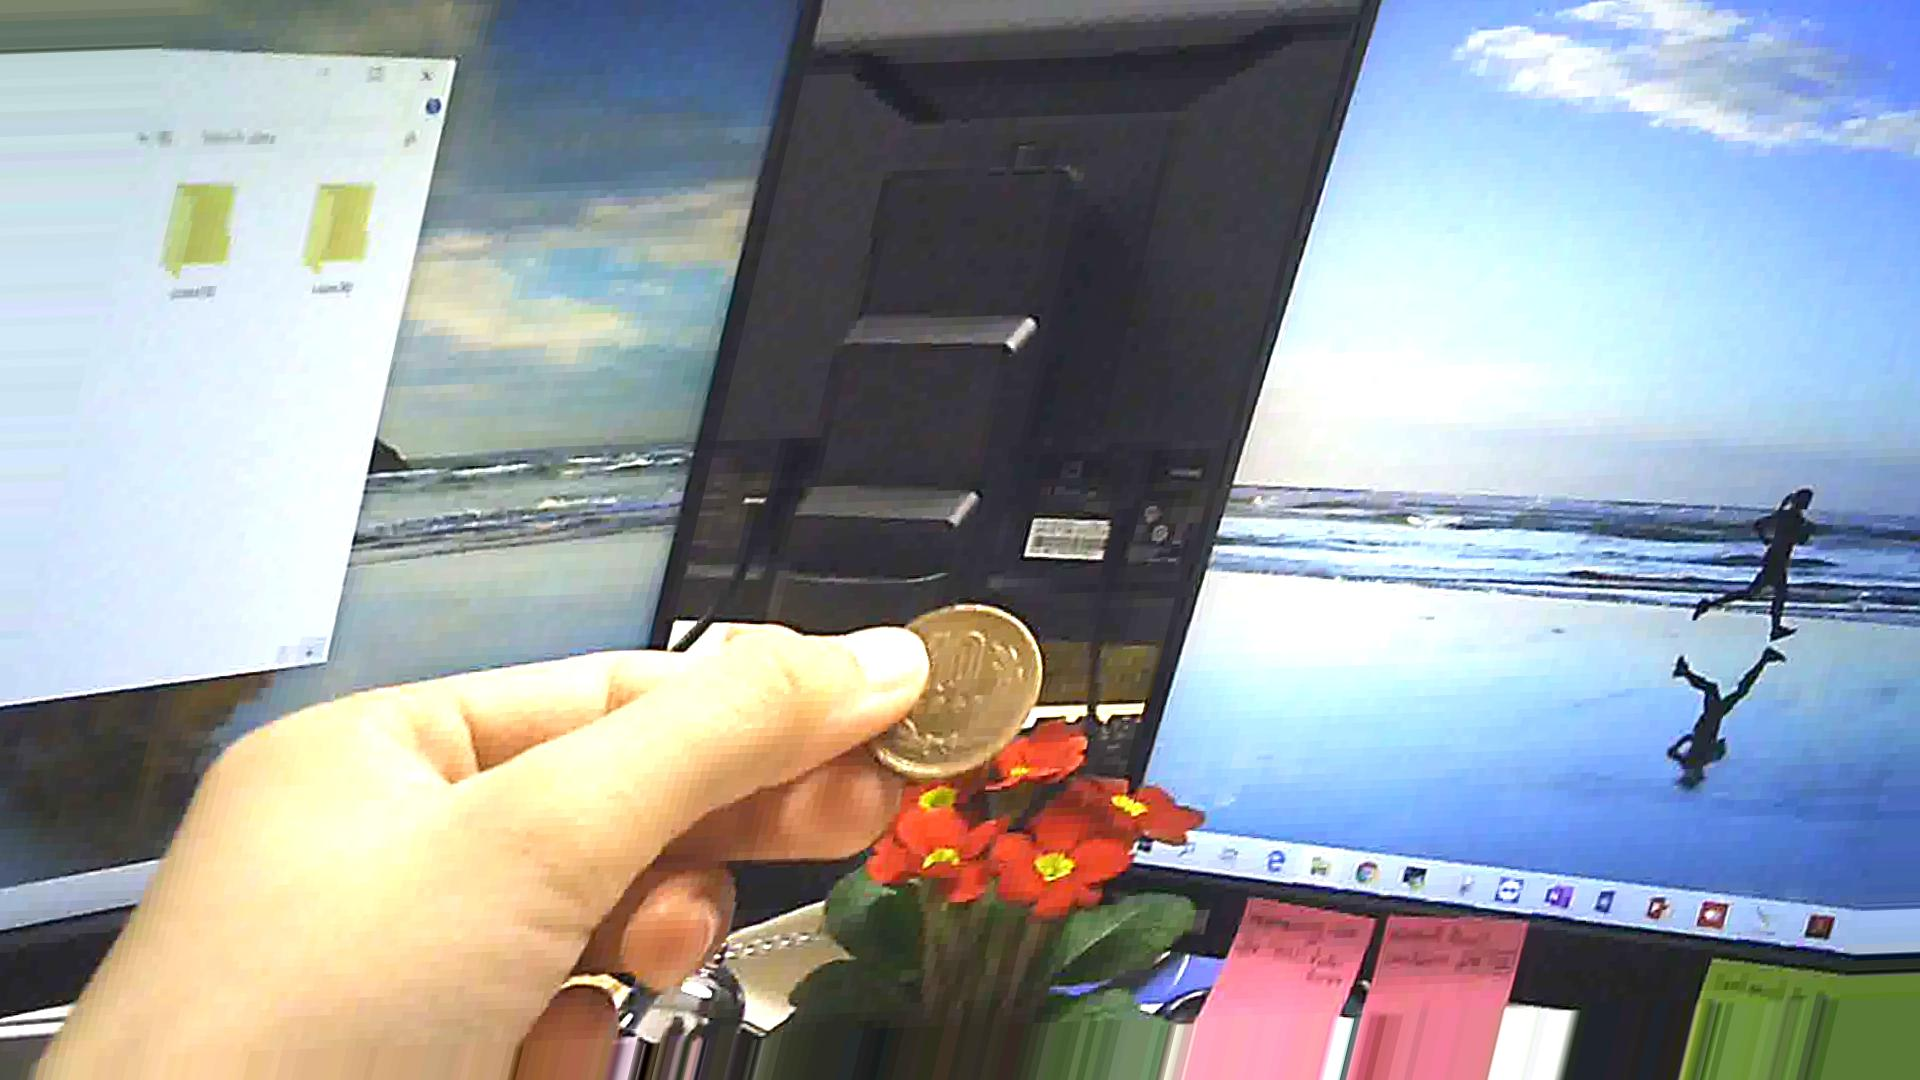10 Yen: (862, 593, 1043, 775)
